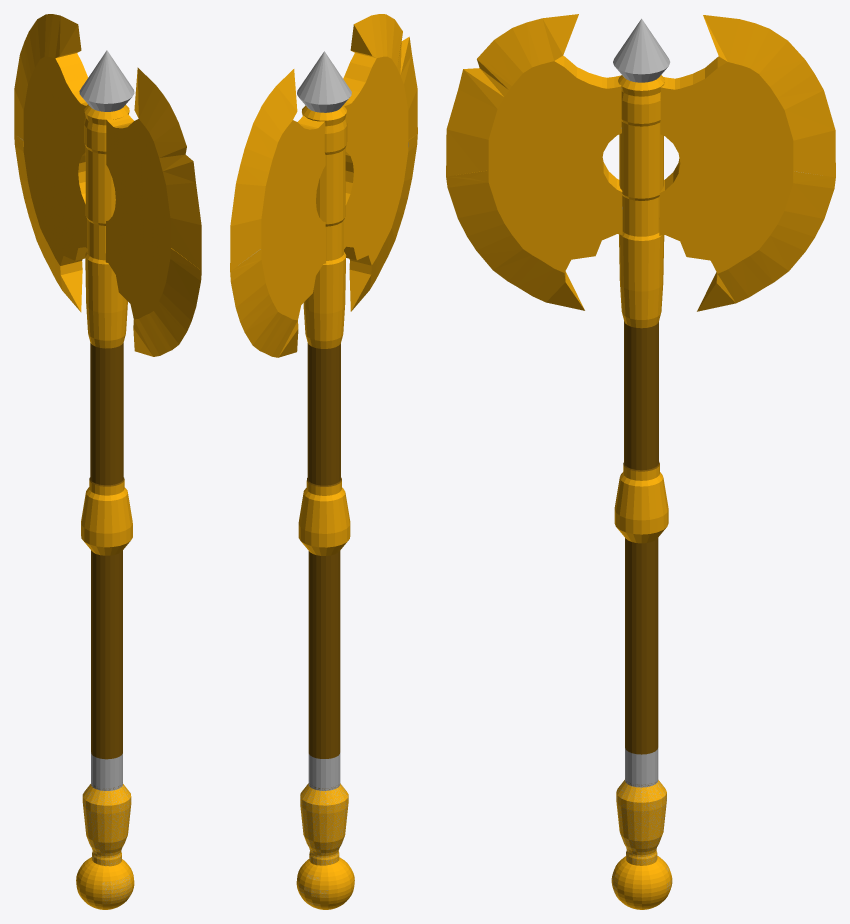
Rendered from Axe_Mesh.fbx.
3 views of the same model, side by side, from view 1: azimuth 30°, elevation 25°; view 2: azimuth 150°, elevation 25°; view 3: azimuth 270°, elevation 25° (orthographic). The views are drawn at different scales.
Visible parts, largest first — view 1: Axe; view 2: Axe; view 3: Axe.
Part boxes in pixels (<box>): Axe: <box>14,14,201,909</box>; Axe: <box>230,14,417,909</box>; Axe: <box>446,14,835,909</box>.
Size of the model in its own units: 0.3248 by 5.25 by 2.08.
